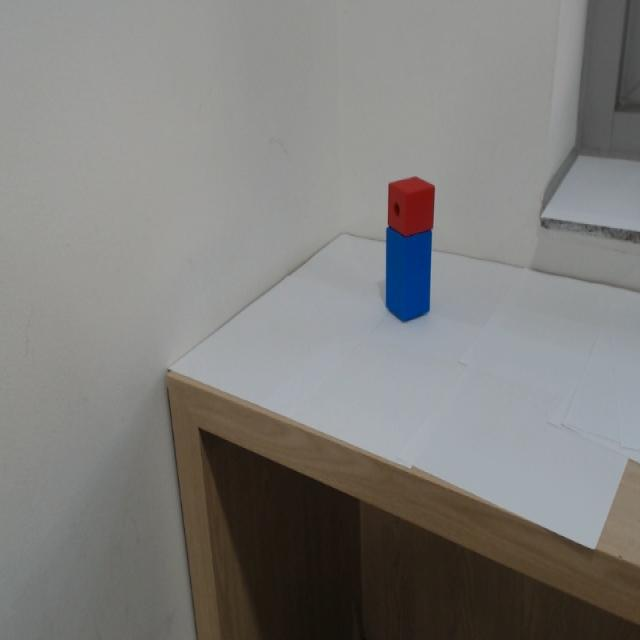cube: (381, 164, 445, 233)
